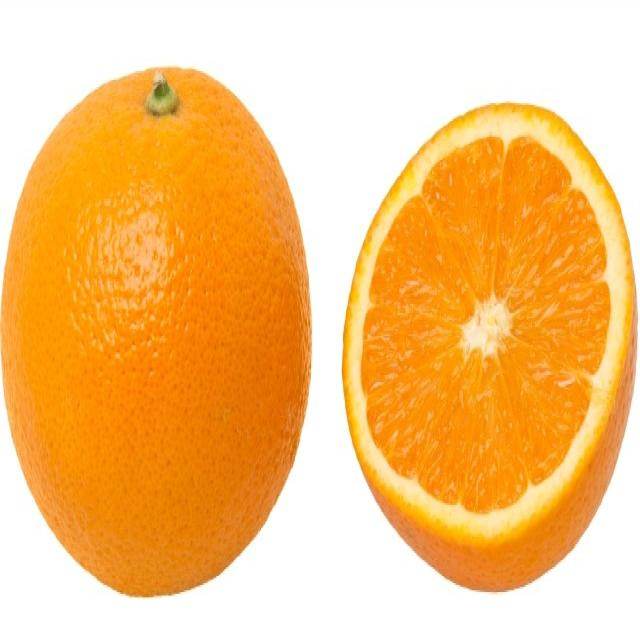orange: (2, 69, 310, 595), (343, 105, 636, 590)
